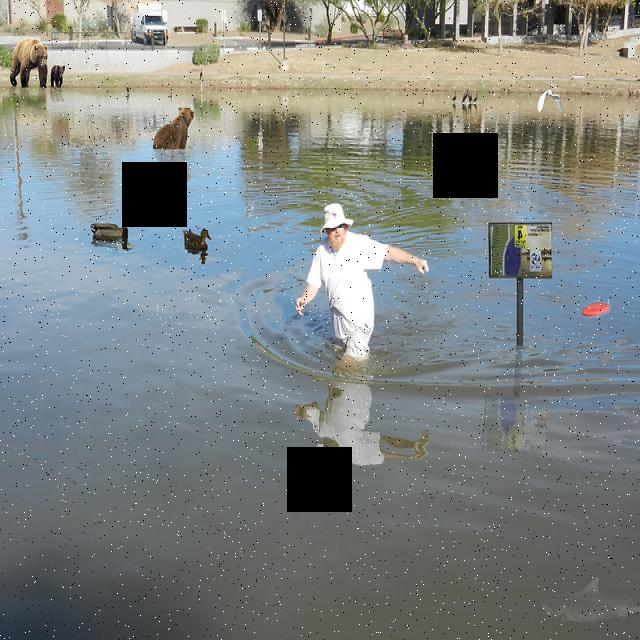Bear: (144, 105, 194, 155), (9, 34, 49, 90), (50, 58, 67, 89)
